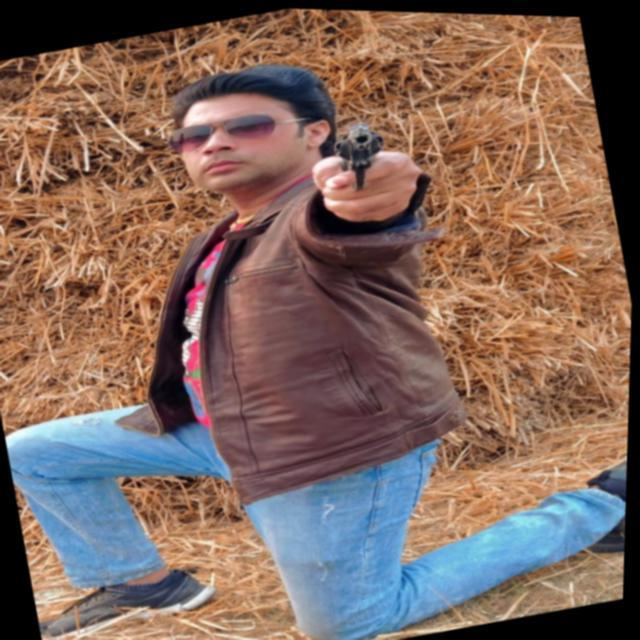weapon: (324, 110, 406, 216)
